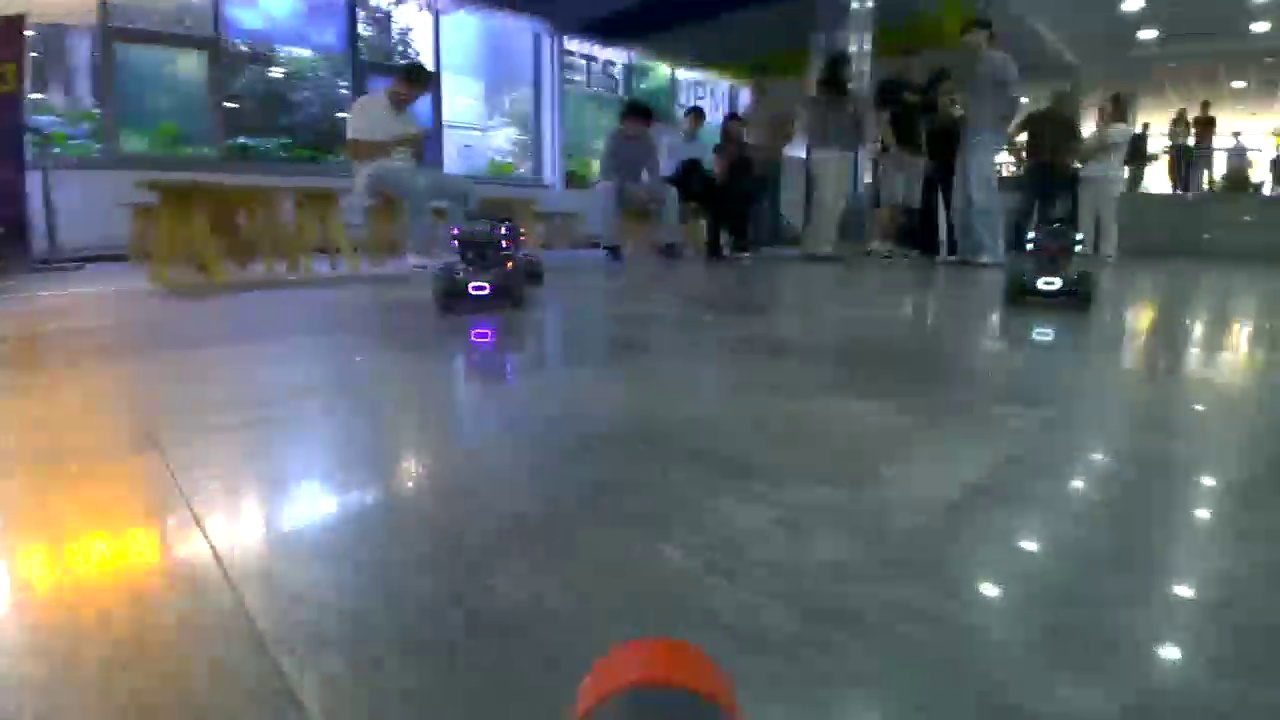robot: (432, 222, 545, 315), (1003, 222, 1095, 310), (517, 223, 557, 307)
